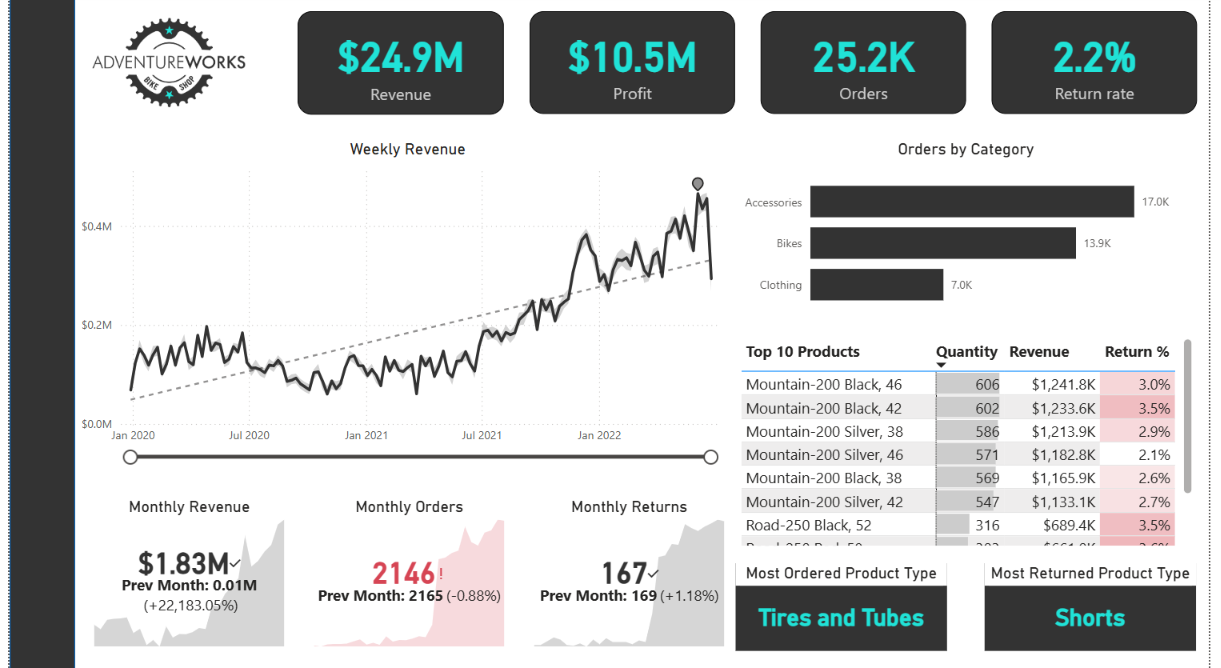

The page's visual inventory and layout, read from the dashboard file:
{"tool":"powerbi","page":{"name":"Executive Dashboard","canvas":[1280,720],"ordinal":0},"visuals":[{"type":"shape","box":[0,0,70,720],"z":0},{"type":"card","fields":{"Values":["Measure Table.Total Sales"]},"box":[307.3,17.3,220,110],"z":1000},{"type":"card","fields":{"Values":["Measure Table.Total Profit"]},"box":[554.5,17.3,219.3,109.6],"z":2000},{"type":"card","fields":{"Values":["Measure Table.Total Orders"]},"box":[800.9,17.3,219.3,109.6],"z":3000},{"type":"card","fields":{"Values":["Measure Table.Return rate"]},"box":[1047.4,17.3,219.3,109.6],"z":4000},{"type":"image","box":[70.4,17.3,200,110],"z":5000},{"type":"clusteredBarChart","title":"Orders by Category","fields":{"Y":["Measure Table.Total Orders"],"Category":["Categories Lookup.CategoryName"]},"box":[774.2,153.2,491.9,196.8],"z":6000},{"type":"tableEx","fields":{"Values":["Product Lookup.ProductName","Measure Table.Quantity sold","Measure Table.Total Sales","Measure Table.Return rate"]},"box":[774.2,361.3,491.9,230.6],"z":7000},{"type":"card","title":"Most Ordered Product Type","fields":{"Values":["Min(Subcategories Lookup.SubcategoryName)"]},"box":[774.2,606.5,225.8,93.5],"z":8000},{"type":"card","title":"Most Returned Product Type","fields":{"Values":["Min(Subcategories Lookup.SubcategoryName)"]},"box":[1040.3,606.5,225.8,93.5],"z":9000},{"type":"lineChart","title":"Weekly Revenue","fields":{"Category":["Calendar Lookup.Start of Week.Variation.Date Hierarchy.Year","Calendar Lookup.Start of Week.Variation.Date Hierarchy.Quarter","Calendar Lookup.Start of Week.Variation.Date Hierarchy.Month","Calendar Lookup.Start of Week.Variation.Date Hierarchy.Day"],"Y":["Measure Table.Total Sales"]},"box":[71,153.2,706.5,350],"z":10000},{"type":"kpi","title":"Monthly Revenue","fields":{"Indicator":["Measure Table.Total Sales"],"TrendLine":["Calendar Lookup.Start of Month"],"Goal":["Measure Table.Previous Month Sales"]},"box":[85.5,535.5,212.9,164.5],"z":11000},{"type":"kpi","title":"Monthly Returns","fields":{"TrendLine":["Calendar Lookup.Start of Month"],"Indicator":["Measure Table.Return Quantity"],"Goal":["Measure Table.Previous Month Returns"]},"box":[554.8,535.5,212.9,164.5],"z":12000},{"type":"kpi","title":"Monthly Orders","fields":{"TrendLine":["Calendar Lookup.Start of Month"],"Indicator":["Measure Table.Total Orders"],"Goal":["Measure Table.Previous Month Orders"]},"box":[320.2,535.5,212.9,164.5],"z":13000}]}

Visuals, with their boxes in screenshot pixels (x1, y1, x2, y2), scaled from the page's 1280x720 canvas onto the 1221x668 screenshot:
shape: bbox=[0, 0, 67, 667]
card - Measure Table.Total Sales: bbox=[293, 16, 503, 118]
card - Measure Table.Total Profit: bbox=[529, 16, 738, 118]
card - Measure Table.Total Orders: bbox=[764, 16, 973, 118]
card - Measure Table.Return rate: bbox=[999, 16, 1208, 118]
image: bbox=[67, 16, 258, 118]
"Orders by Category" clusteredBarChart: bbox=[739, 142, 1208, 325]
tableEx - Product Lookup.ProductName x Measure Table.Quantity sold: bbox=[739, 335, 1208, 549]
"Most Ordered Product Type" card: bbox=[739, 563, 954, 649]
"Most Returned Product Type" card: bbox=[992, 563, 1208, 649]
"Weekly Revenue" lineChart: bbox=[68, 142, 742, 467]
"Monthly Revenue" kpi: bbox=[82, 497, 285, 649]
"Monthly Returns" kpi: bbox=[529, 497, 732, 649]
"Monthly Orders" kpi: bbox=[305, 497, 509, 649]
